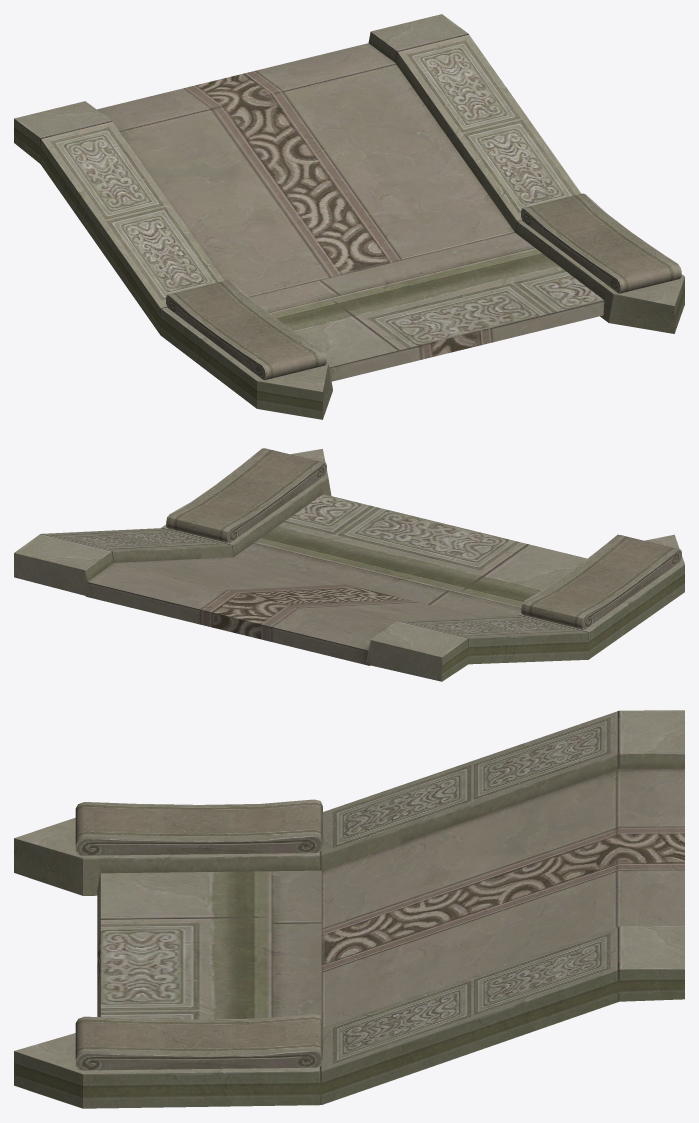
The model's file is cj_luoyang_leitai02_53_34_7945out.fbx.
3 renders of one model, top to bottom at view 1: azimuth 30°, elevation 25°; view 2: azimuth 150°, elevation 25°; view 3: azimuth 270°, elevation 25°, orthographic. The views are drawn at different scales.
Visible parts, largest first — view 1: cj_luoyang_leitai02; view 2: cj_luoyang_leitai02; view 3: cj_luoyang_leitai02.
Part boxes in pixels (x1,y1,x2,y2): cj_luoyang_leitai02: [14, 14, 684, 419]; cj_luoyang_leitai02: [14, 448, 684, 681]; cj_luoyang_leitai02: [14, 710, 684, 1108].
Size of the model in its own units: 4.04 by 1.02 by 4.43.
